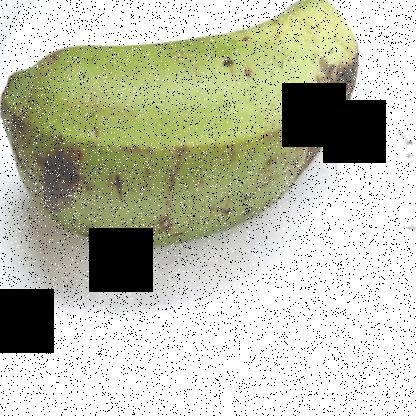rotten: (258, 48, 396, 198)
unripe: (1, 1, 367, 265)
